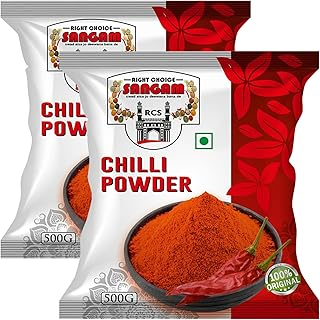Chilli Powder: (55, 53, 320, 320)
